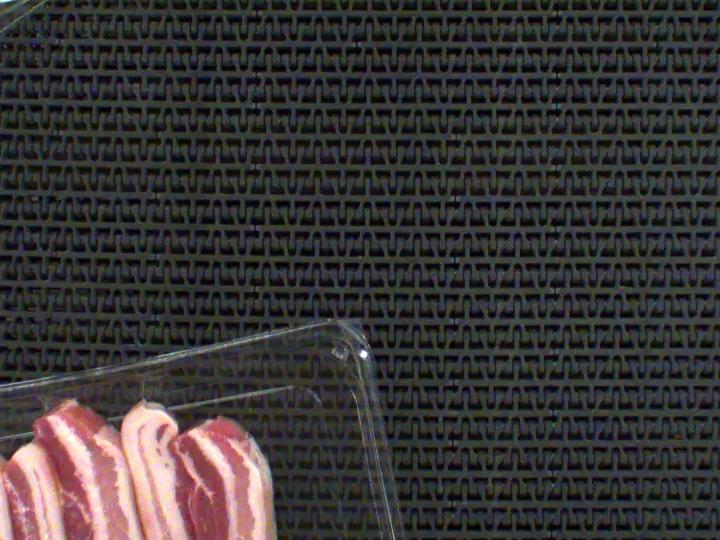packaging-error: (133, 373, 163, 411), (29, 393, 80, 410)
